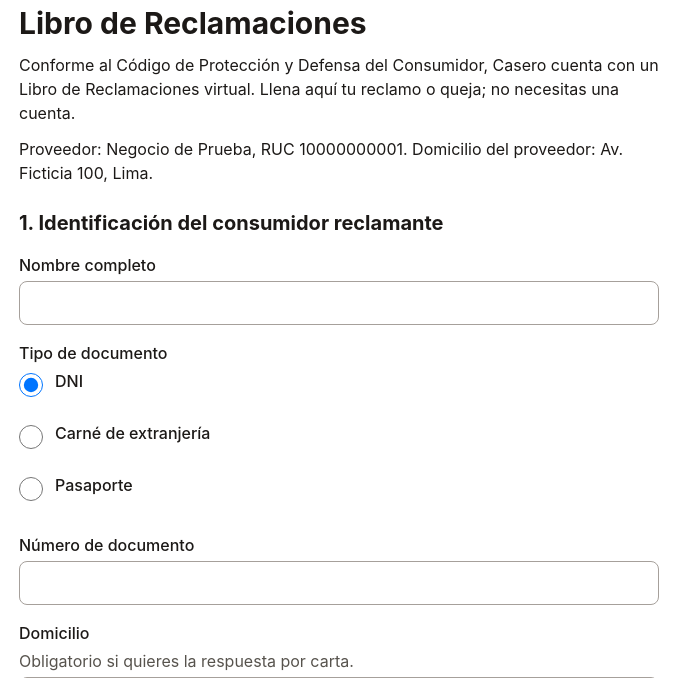
complaints book › a letter answer needs an address and a DNI has 8 digits
The width and height of the screenshot is (676, 678).
Type "123" into the field labelled "Número de documento" at (339, 583), box [19, 561, 659, 605]
(page scrolled)
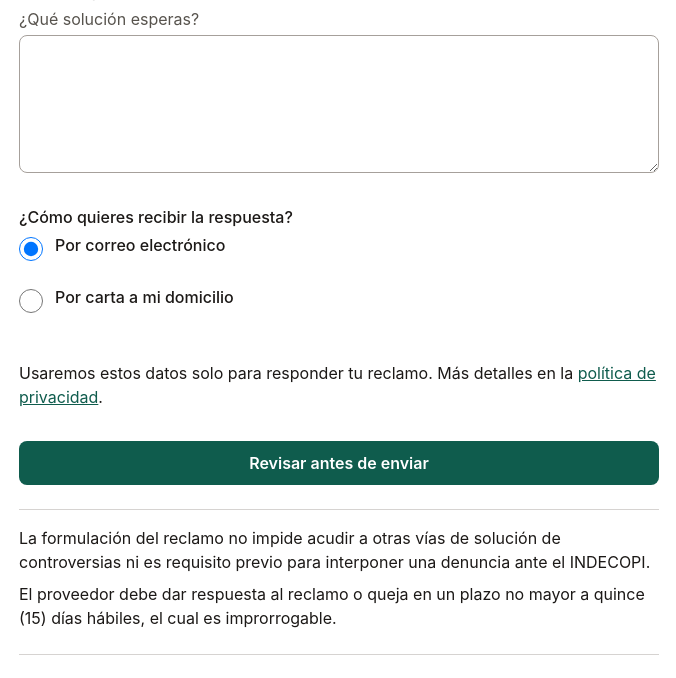
Click the radio button labelled "Por carta a mi domicilio" at (31, 301), box [19, 289, 43, 313]
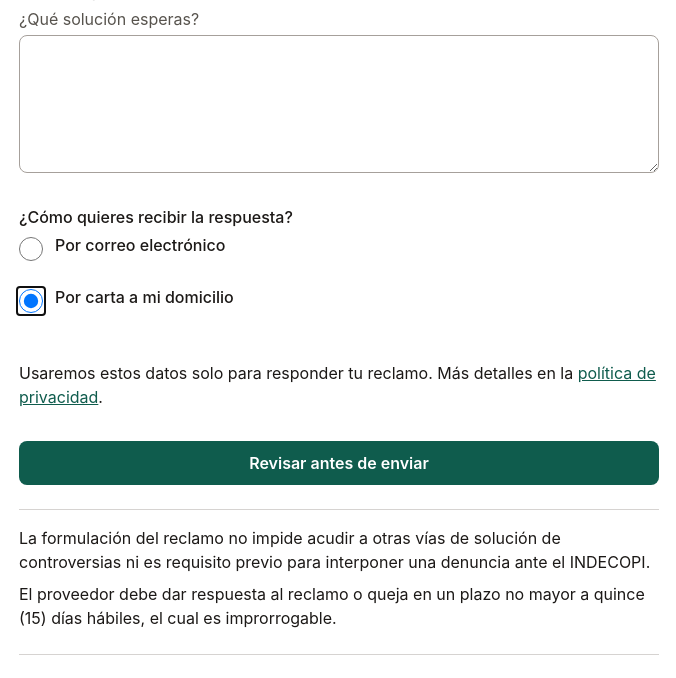
Click the button "Revisar antes de enviar" at (339, 463), box [19, 441, 659, 485]
(page scrolled)
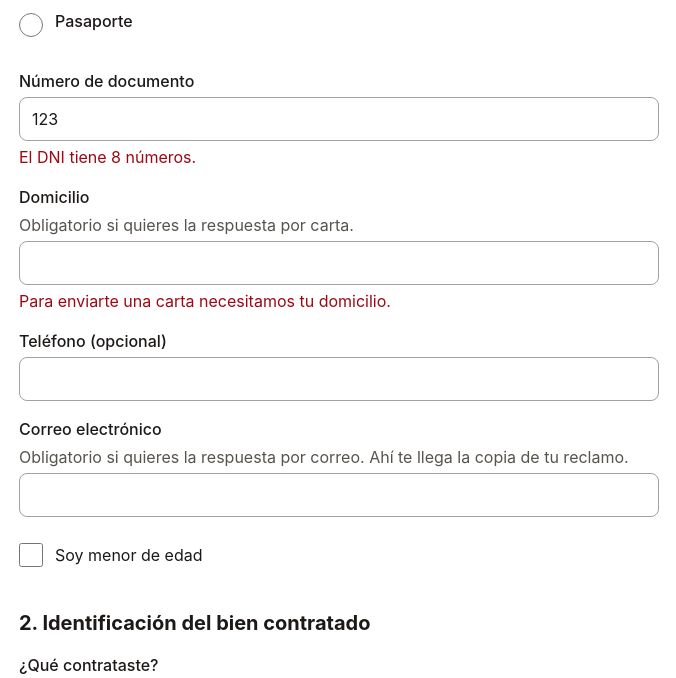
expect the text "El DNI tiene 8 números." is shown: met, box [19, 147, 196, 167]
expect the text "Para enviarte una carta necesitamos tu domicilio." is shown: met, box [19, 291, 391, 311]
